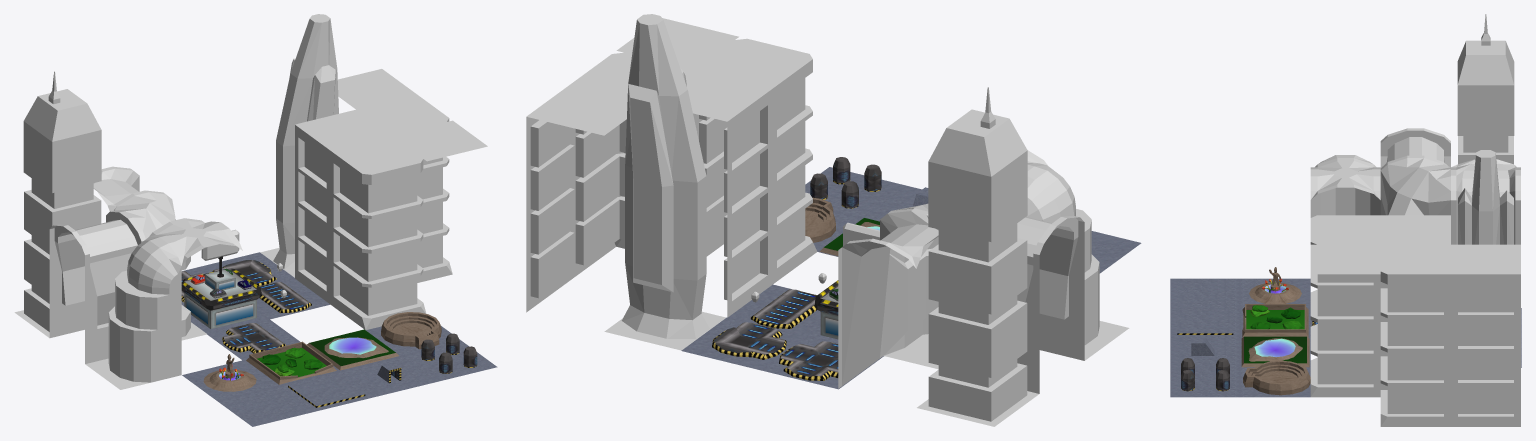
The model's file is tiles.dae.
3 renders of one model, left to right at view 1: azimuth 30°, elevation 25°; view 2: azimuth 150°, elevation 25°; view 3: azimuth 270°, elevation 25°, orthographic. The views are drawn at different scales.
Parts seen in each view (by area): view 1: bat2, office1, office2, office6, bat6, bat1, bat3, magasin, parc_001, sol_003, parc_003, parc_002 (+13 smaller); view 2: office1, bat1, bat2, bat6, bat4, office6, office4, bat3, office3, office2, tournant, sol_003 (+7 smaller); view 3: bat3, bat4, bat2, office1, bat1, office3, parc_003, sol_003, parc_001, sol, bat5, office4 (+8 smaller).
Boxes of the visible parts, x1,y1,x2,y2 form: bat2: (330,135,426,330); office1: (14,71,101,337); office2: (85,236,181,389); office6: (49,210,145,363); bat6: (295,109,391,303); bat1: (260,14,338,277); bat3: (356,94,452,282); magasin: (181,256,267,333); parc_001: (243,341,339,385); sol_003: (401,333,497,381); parc_003: (366,312,461,355); parc_002: (182,354,277,400); office1: (917,87,1038,426); bat1: (604,14,725,350); bat2: (694,38,817,284); bat6: (685,70,772,317); bat4: (526,83,627,312); office6: (1017,215,1084,393); office4: (838,208,938,388); bat3: (571,52,693,279); office3: (883,203,938,369); office2: (1026,165,1129,360); tournant: (681,317,806,370); sol_003: (805,157,906,218); bat3: (1380,244,1450,426); bat4: (1451,244,1520,426); bat2: (1310,215,1380,397); office1: (1457,14,1514,164); bat1: (1458,150,1513,244); office3: (1380,158,1450,215); parc_003: (1240,360,1310,397); sol_003: (1170,358,1240,397); parc_001: (1240,304,1310,337); sol: (1170,278,1240,308); bat5: (1310,244,1380,274); office4: (1451,159,1520,244).
Bounding box in the file's own units: 6 × 5.01 × 3.97.
13 materials, 13 textured.
